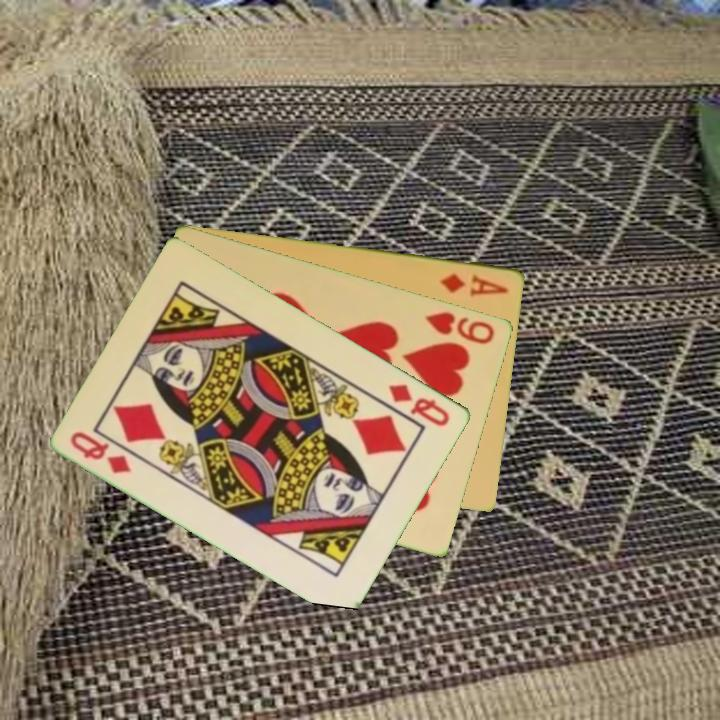9h: (422, 307, 498, 347)
Ad: (437, 269, 511, 299)
Qd: (385, 380, 454, 430), (67, 427, 135, 477)
